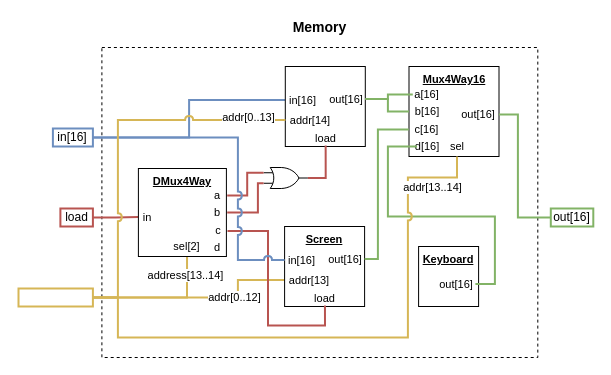
Some shapes in this 611 by 375 pixel diagram are drawn without their labels. The box of each missing label's shape, as (x1, y1, x2, y2) in pixels:
address[15]: (17, 287, 93, 307)
Or: (263, 166, 308, 188)
Ram16K: (284, 66, 365, 146)
